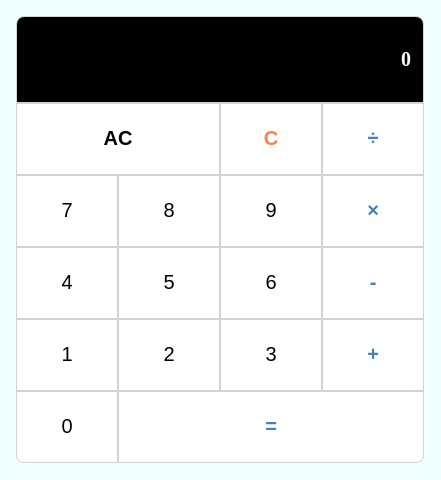
it: clear key › user clears a key after makign a calculation
The image size is (441, 480).
Click the button "6": (271, 282) [221,248,321,318]
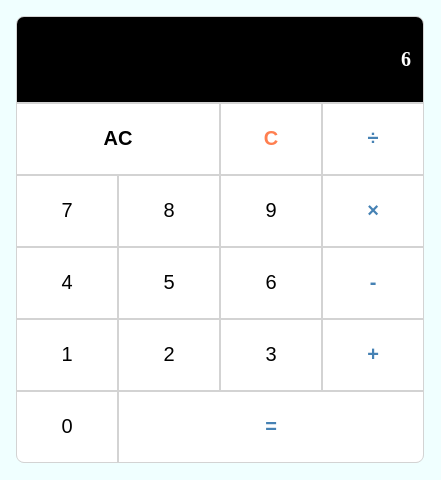
Click the button "×": (373, 210) [323,176,423,246]
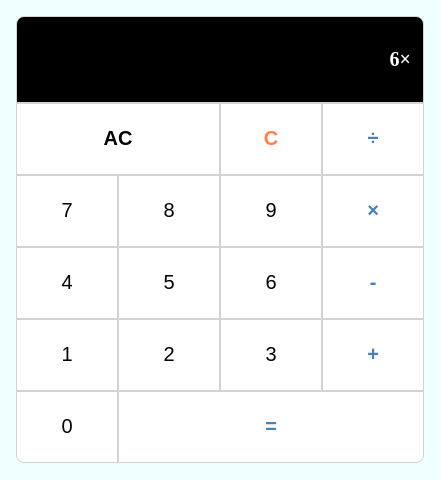
Click the button "7": (67, 210) [17,176,117,246]
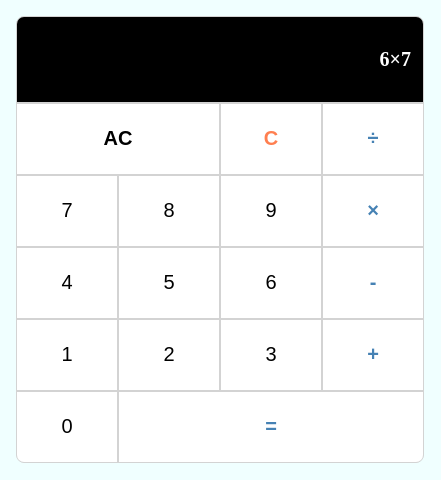
Click the button "=": (271, 426) [119,392,423,462]
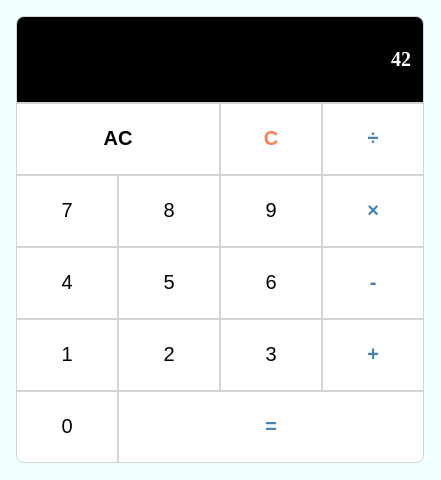
Click the button "C": (271, 138) [221,104,321,174]
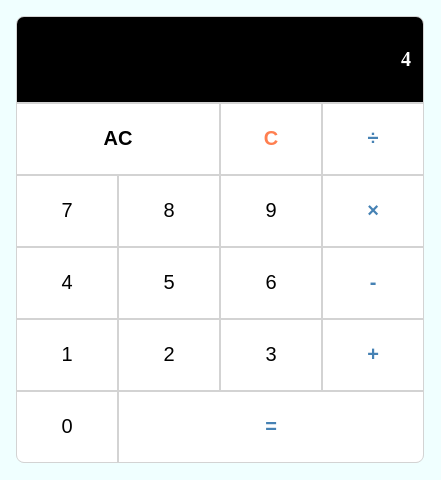
Expected: the text named "result" reads "4", [401,48,411,70]
